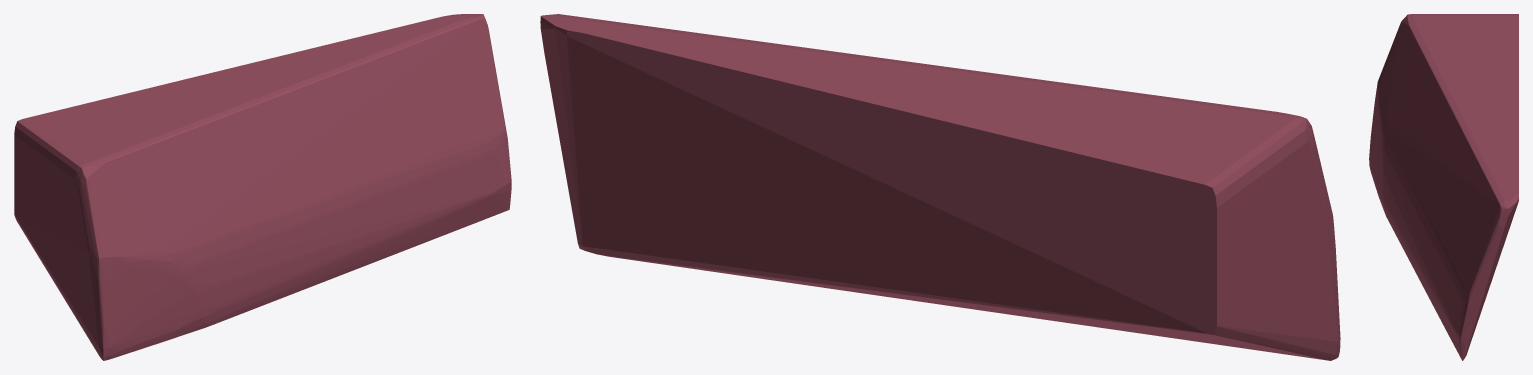
The model's file is left-elbow-0_part_13.obj.
3 renders of one model, left to right at view 1: azimuth 30°, elevation 25°; view 2: azimuth 150°, elevation 25°; view 3: azimuth 270°, elevation 25°, orthographic. The views are drawn at different scales.
Size of the model in its own units: 0.0553 by 0.0203 by 0.0179.
